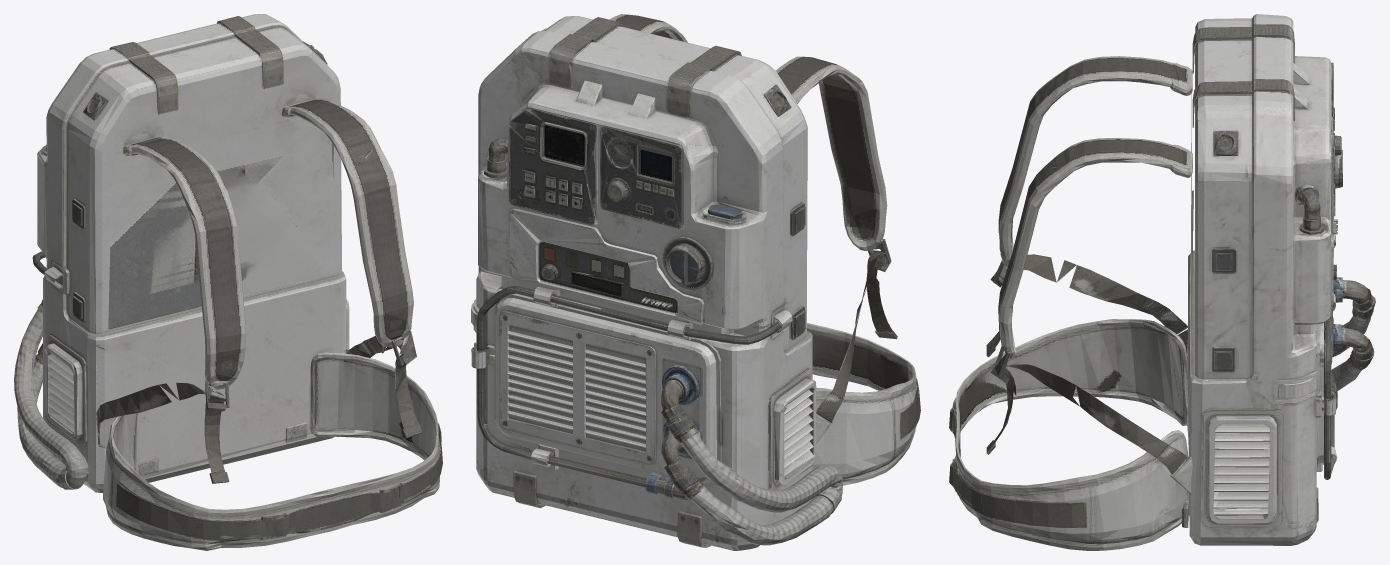
Rendered from ewm_astropack.glb.
3 views of the same model, side by side, from view 1: azimuth 30°, elevation 25°; view 2: azimuth 150°, elevation 25°; view 3: azimuth 270°, elevation 25° (orthographic). The views are drawn at different scales.
Parts seen in each view (by area): view 1: ewm_astropack; view 2: ewm_astropack; view 3: ewm_astropack.
Part boxes in pixels (x1,y1,x2,y2): ewm_astropack: (14, 14, 442, 550); ewm_astropack: (471, 14, 920, 550); ewm_astropack: (949, 14, 1375, 550).
Bounding box in the file's own units: 0.4925 × 0.62 × 0.5551.
Materials: 1 (1 with a texture image).
